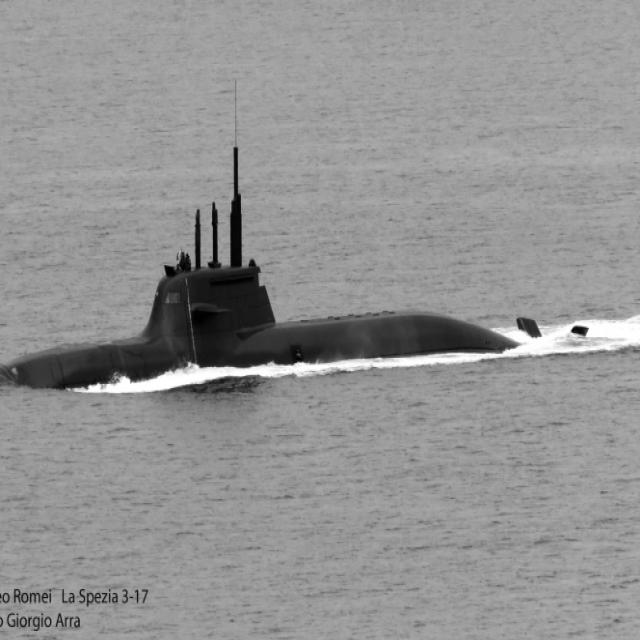submarine: (1, 128, 640, 415)
